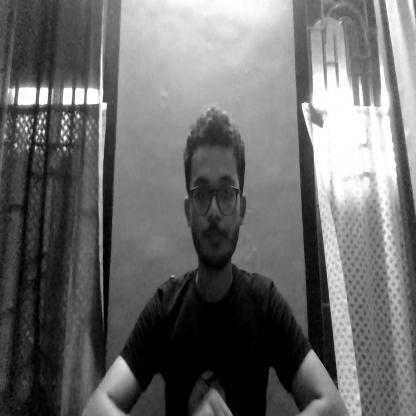Normal: (188, 112, 251, 297)
